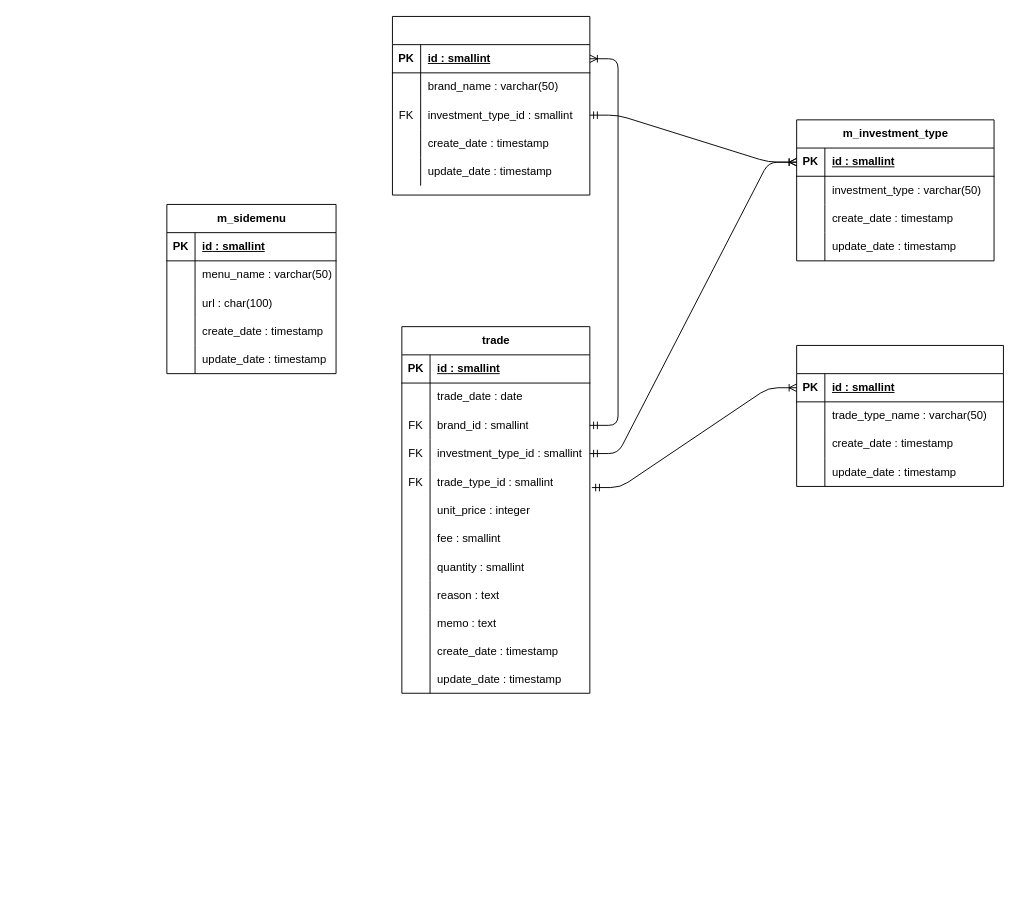
This 1020x907 diagram has some shape labels left out. Each missing label, with the box of its shape:
m_brandname: (392, 16, 590, 195)
m_trade_type: (796, 345, 1003, 486)
